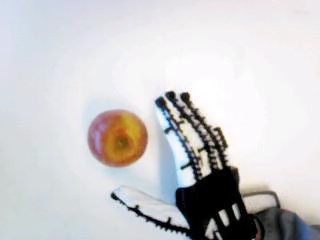apple: (87, 108, 146, 169)
hand: (111, 90, 251, 240)
